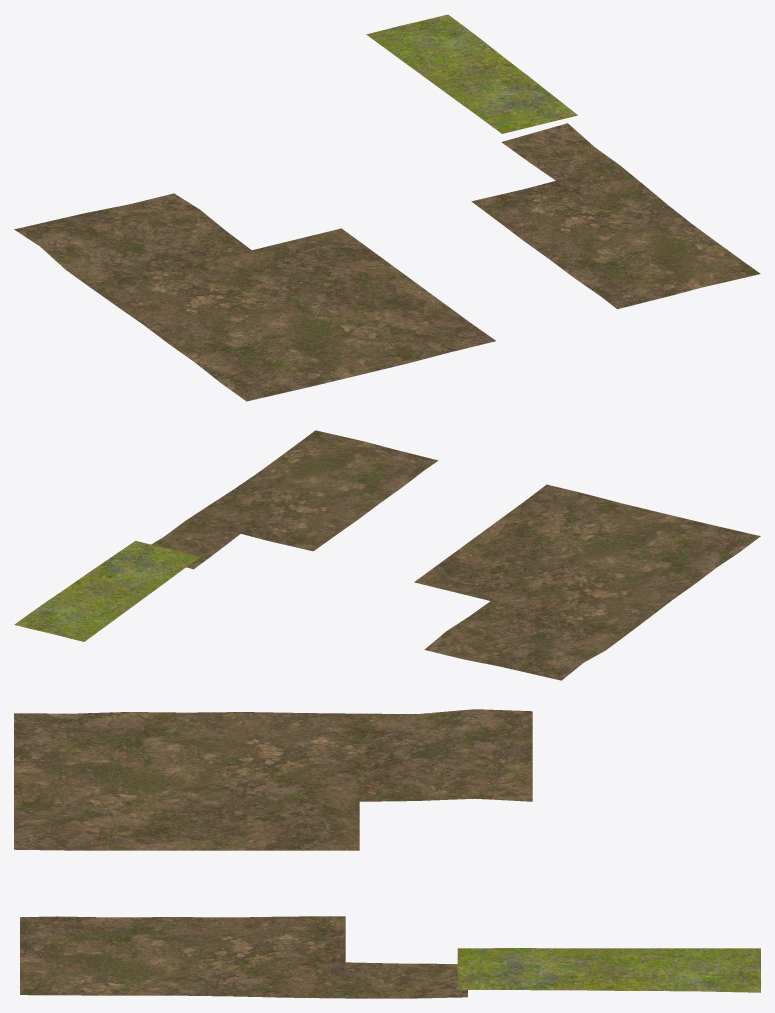
The model's file is SJJ_land.fbx.
3 renders of one model, top to bottom at view 1: azimuth 30°, elevation 25°; view 2: azimuth 150°, elevation 25°; view 3: azimuth 270°, elevation 25°, orthographic. The views are drawn at different scales.
Parts seen in each view (by area): view 1: SJJ_land; view 2: SJJ_land; view 3: SJJ_land.
Part boxes in pixels (x1,y1,x2,y2): SJJ_land: [14, 14, 760, 401]; SJJ_land: [14, 430, 760, 680]; SJJ_land: [14, 709, 760, 998].
Size of the model in its own units: 2726 by 2949 by 66.86.
2 materials, 2 textured.
